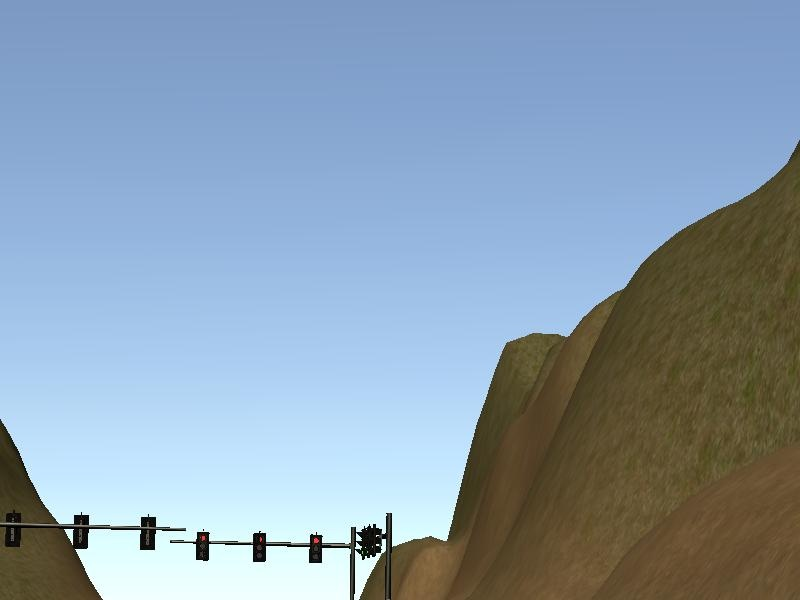traffic_light_red: (185, 531, 349, 564)
